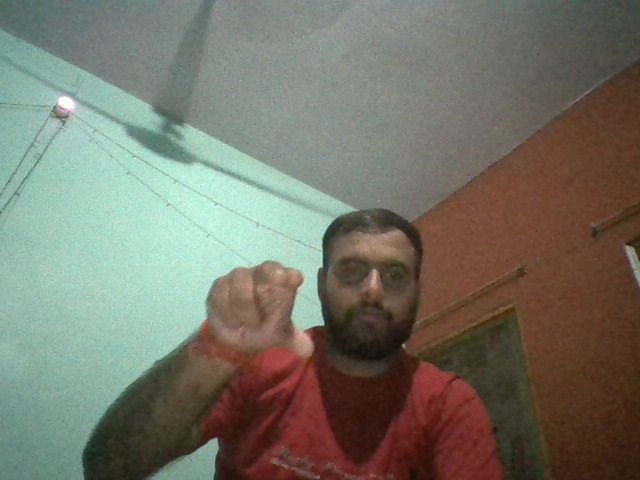no: (206, 261, 315, 357)
